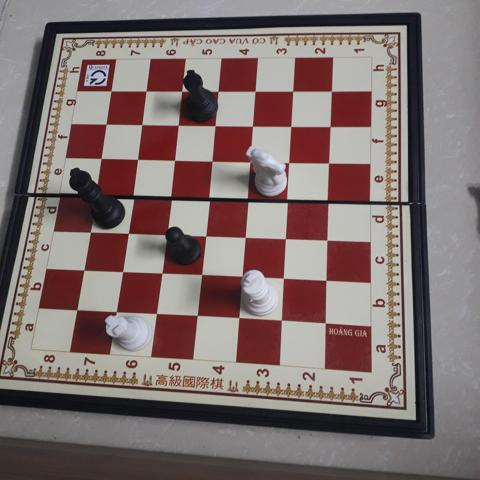xcorner: (277, 269, 292, 284), (232, 310, 247, 324), (154, 264, 169, 278), (194, 266, 209, 280), (235, 268, 250, 282), (198, 226, 212, 241), (279, 229, 294, 243), (321, 230, 336, 244), (202, 188, 216, 203), (322, 191, 337, 205), (130, 151, 145, 165), (167, 152, 182, 166), (244, 152, 258, 167), (323, 153, 338, 167), (171, 117, 186, 131), (208, 117, 223, 131), (324, 117, 339, 131), (212, 83, 226, 98), (71, 301, 85, 315), (110, 303, 124, 317), (150, 305, 164, 319), (191, 307, 205, 321), (275, 312, 289, 326), (319, 314, 333, 328), (77, 261, 91, 275), (115, 263, 129, 277), (320, 271, 334, 285), (83, 223, 97, 237), (121, 224, 135, 238), (159, 225, 173, 239), (238, 228, 252, 242), (89, 186, 103, 200), (126, 187, 140, 201), (163, 188, 177, 202), (241, 189, 255, 203), (281, 190, 295, 204), (94, 151, 108, 165), (205, 152, 219, 166), (283, 153, 297, 167), (100, 117, 114, 131), (135, 117, 149, 131), (246, 117, 260, 131), (285, 117, 299, 131), (105, 85, 119, 99), (140, 84, 154, 98), (175, 84, 189, 98), (249, 83, 263, 97), (287, 83, 301, 97), (325, 82, 339, 96)
